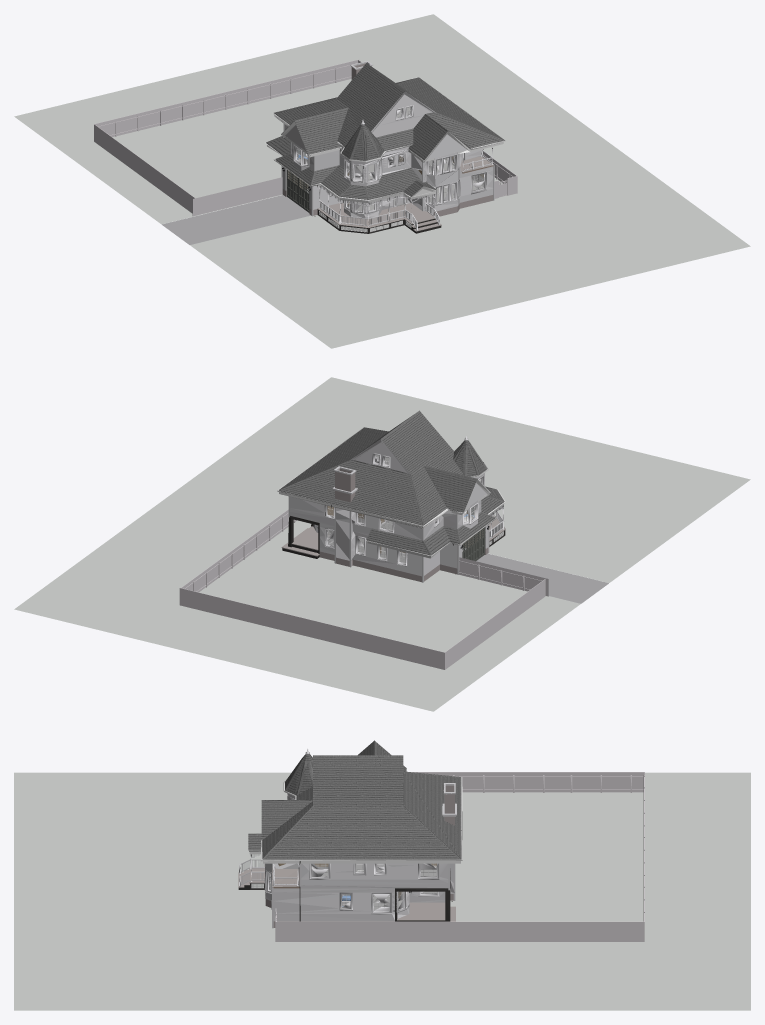
The model's file is ravenwood_mansion_victorian.glb.
The picture shows the model from 3 angles, top to bottom: view 1: azimuth 30°, elevation 25°; view 2: azimuth 150°, elevation 25°; view 3: azimuth 270°, elevation 25°; orthographic projection. The views are drawn at different scales.
Visible parts, largest first — view 1: 257_Ground, 05_RoofTiles, 125_FenceWoodBase, 22_WhiteDiffuse, 61_DrivewayBase, 254_DeckWoodBase, 127_WhiteDiffuse, 103_WhitePaint, 89_WhiteDiffuse, 241_WhiteDiffuse, 141_WhiteDiffuse, 90_WhiteDiffuse (+2 smaller); view 2: 257_Ground, 05_RoofTiles, 125_FenceWoodBase, 22_WhiteDiffuse, 61_DrivewayBase, 103_WhitePaint, 153_BrickTextureBase, 258_DeckWoodBase, 127_WhiteDiffuse, 248_WhiteDiffuse, 243_BrickTextureBase; view 3: 257_Ground, 05_RoofTiles, 125_FenceWoodBase, 22_WhiteDiffuse, 258_DeckWoodBase, 00_WhitePaint, 141_WhiteDiffuse, 103_WhitePaint, 127_WhiteDiffuse, 89_WhiteDiffuse, 62_Pink, 251_DeckWoodBase.
Part boxes in pixels (x1,y1,x2,y2): 257_Ground: (14, 14, 750, 348); 05_RoofTiles: (266, 63, 504, 199); 125_FenceWoodBase: (94, 59, 517, 216); 22_WhiteDiffuse: (282, 124, 493, 218); 61_DrivewayBase: (162, 189, 310, 244); 254_DeckWoodBase: (317, 203, 441, 231); 127_WhiteDiffuse: (293, 144, 460, 183); 103_WhitePaint: (266, 114, 503, 202); 89_WhiteDiffuse: (319, 150, 491, 228); 241_WhiteDiffuse: (372, 94, 430, 137); 141_WhiteDiffuse: (329, 171, 486, 214); 90_WhiteDiffuse: (319, 146, 493, 230); 257_Ground: (14, 377, 750, 711); 05_RoofTiles: (278, 410, 504, 555); 125_FenceWoodBase: (179, 509, 548, 669); 22_WhiteDiffuse: (290, 473, 488, 576); 61_DrivewayBase: (462, 548, 608, 603); 103_WhitePaint: (279, 469, 504, 558); 153_BrickTextureBase: (319, 547, 488, 582); 258_DeckWoodBase: (281, 526, 329, 556); 127_WhiteDiffuse: (324, 475, 484, 533); 248_WhiteDiffuse: (288, 496, 489, 582); 243_BrickTextureBase: (335, 469, 355, 502); 257_Ground: (14, 772, 750, 1010); 05_RoofTiles: (248, 740, 461, 859); 125_FenceWoodBase: (275, 772, 644, 941); 22_WhiteDiffuse: (265, 793, 454, 921); 258_DeckWoodBase: (397, 902, 455, 921); 00_WhitePaint: (261, 768, 462, 861); 141_WhiteDiffuse: (264, 864, 450, 914); 103_WhitePaint: (249, 851, 460, 863); 127_WhiteDiffuse: (287, 795, 439, 879); 89_WhiteDiffuse: (240, 859, 296, 885); 62_Pink: (395, 871, 450, 921); 251_DeckWoodBase: (272, 868, 299, 886).
Size of the model in its own units: 50.47 by 13.1 by 66.11.
Materials: 3 (3 with a texture image).
